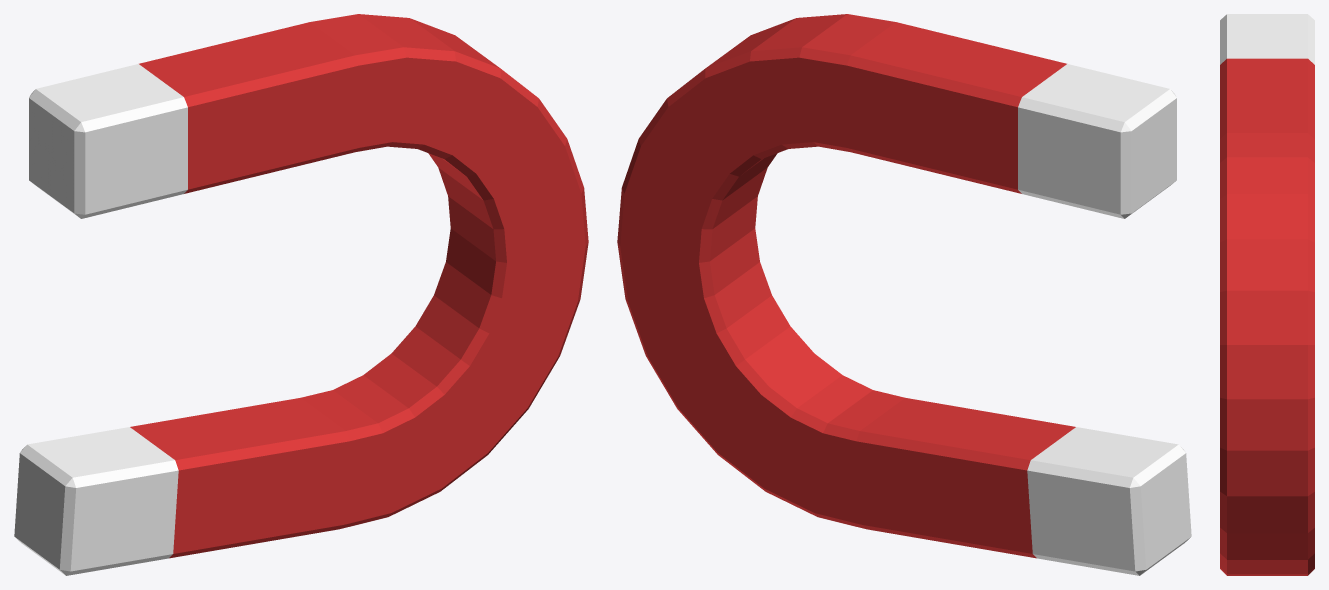
The model's file is dD2RIIea6WR.glb.
The picture shows the model from 3 angles, left to right: view 1: azimuth 30°, elevation 25°; view 2: azimuth 150°, elevation 25°; view 3: azimuth 270°, elevation 25°; orthographic projection. The views are drawn at different scales.
Visible parts, largest first — view 1: Magnet; view 2: Magnet; view 3: Magnet.
Boxes of the visible parts, x1,y1,x2,y2 form: Magnet: [14, 14, 588, 575]; Magnet: [617, 14, 1191, 575]; Magnet: [1220, 14, 1314, 575].
Size of the model in its own units: 1.18 by 1 by 0.2061.
